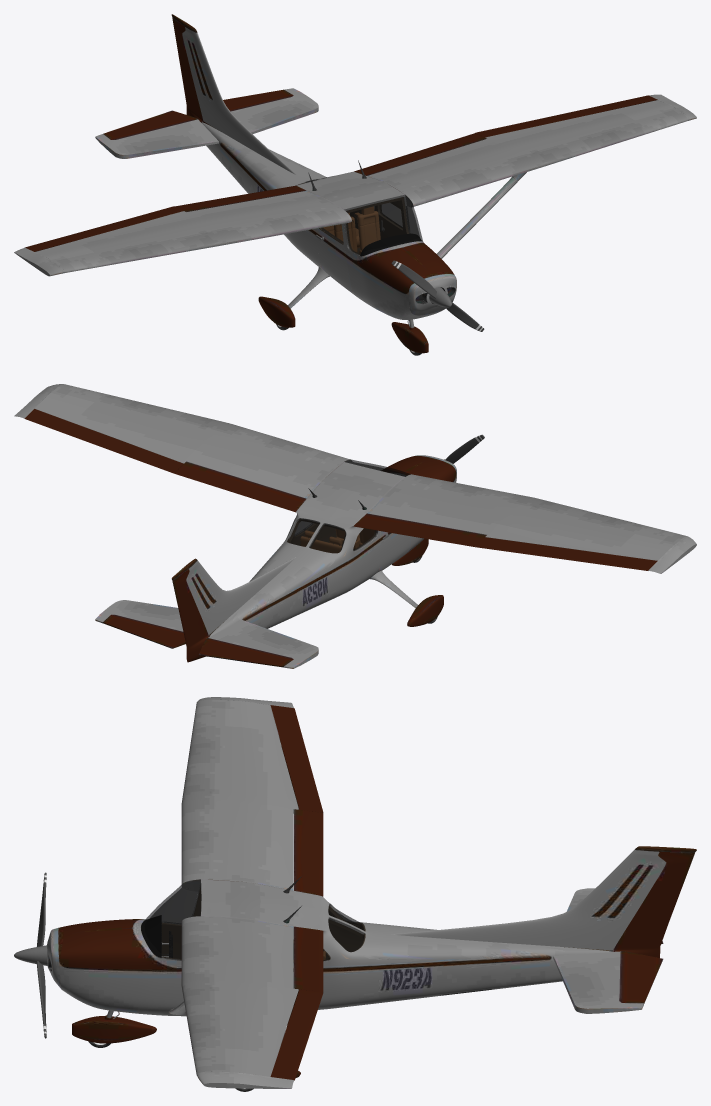
3 renders of one model, top to bottom at view 1: azimuth 30°, elevation 25°; view 2: azimuth 150°, elevation 25°; view 3: azimuth 270°, elevation 25°, orthographic. The views are drawn at different scales.
Visible parts, largest first — view 1: Object_10, Object_54, Object_26, Object_37, Object_4, Object_46, Object_44, Object_28, Object_120, Object_12, plane_propeller, plane_aileron (+5 smaller); view 2: Object_10, Object_54, Object_46, Object_44, Object_26, Object_4, Object_28, Object_37, plane_aileron, Object_120, Object_17, Object_64 (+1 smaller); view 3: Object_10, Object_54, Object_4, Object_46, Object_44, Object_37, Object_26, plane_aileron, Object_28, Object_22, Object_56, plane_propeller (+2 smaller).
Part boxes in pixels (x1,y1,x2,y2): Object_10: (14,94,696,276); Object_54: (202,122,454,319); Object_26: (95,88,318,158); Object_37: (296,176,422,256); Object_4: (182,27,296,175); Object_46: (25,95,657,251); Object_44: (175,133,486,211); Object_28: (103,89,293,139); Object_120: (317,224,352,291); Object_12: (408,274,456,315); plane_propeller: (391,260,484,331); plane_aileron: (172,17,208,124); Object_10: (14,384,696,573); Object_54: (210,456,456,636); Object_46: (24,409,657,570); Object_44: (174,461,486,546); Object_26: (95,600,318,668); Object_4: (186,556,296,634); Object_28: (102,614,293,667); Object_37: (287,459,410,553); plane_aileron: (172,569,209,662); Object_120: (379,531,411,570); Object_17: (407,595,443,626); Object_64: (300,530,341,552); Object_10: (181,697,317,1088); Object_54: (58,879,612,1016); Object_4: (391,849,666,950); Object_46: (270,705,323,1080); Object_44: (294,809,323,991); Object_37: (141,879,365,962); Object_26: (553,888,643,1013); plane_aileron: (613,851,695,957); Object_28: (619,941,663,1003); Object_22: (72,1016,156,1043); Object_56: (162,886,609,960); plane_propeller: (14,872,47,1038).
Size of the model in its own units: 13.75 by 3.34 by 10.29.
26 materials, 11 textured.
